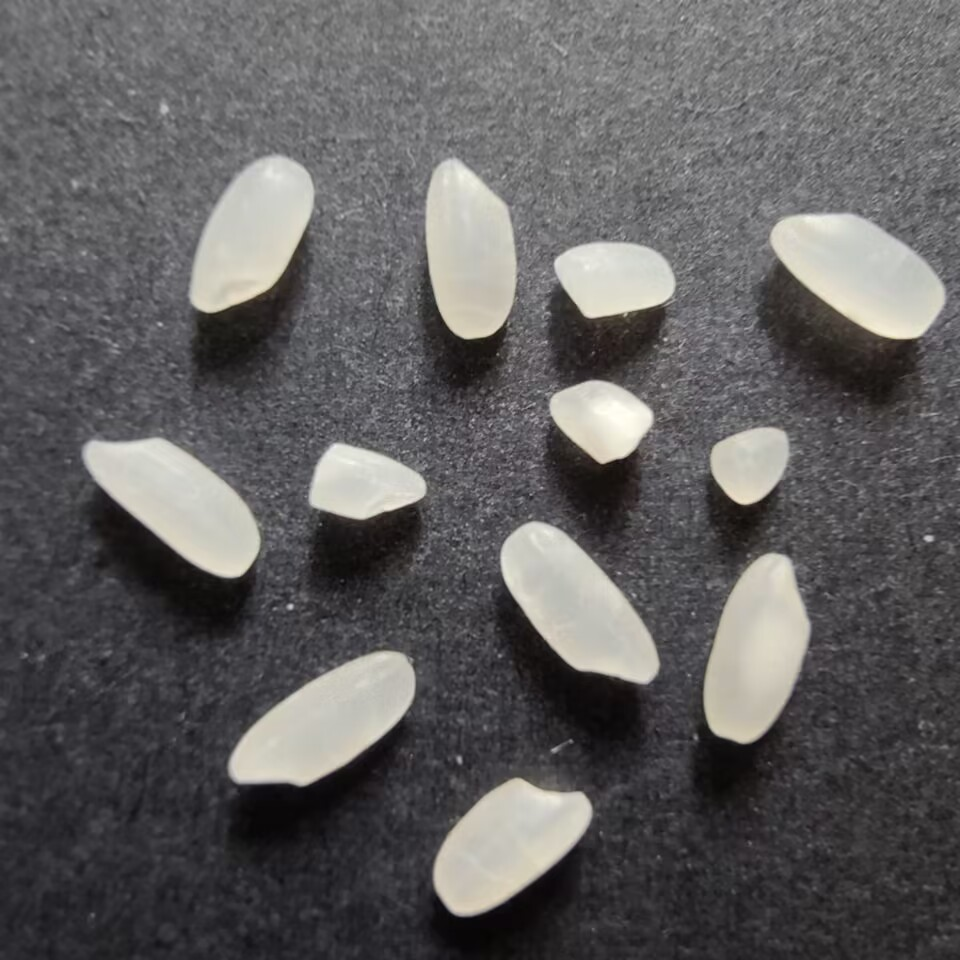broken: (550, 239, 679, 324), (308, 439, 428, 528), (546, 376, 658, 470), (704, 425, 793, 508)
rice: (222, 646, 419, 794), (497, 520, 666, 688), (79, 435, 265, 583), (763, 208, 952, 344), (432, 777, 601, 919), (701, 548, 816, 746), (187, 151, 320, 315), (421, 152, 522, 344)
